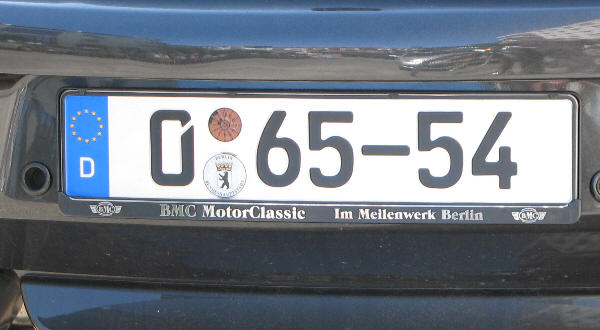license_plate: (60, 89, 580, 212)
